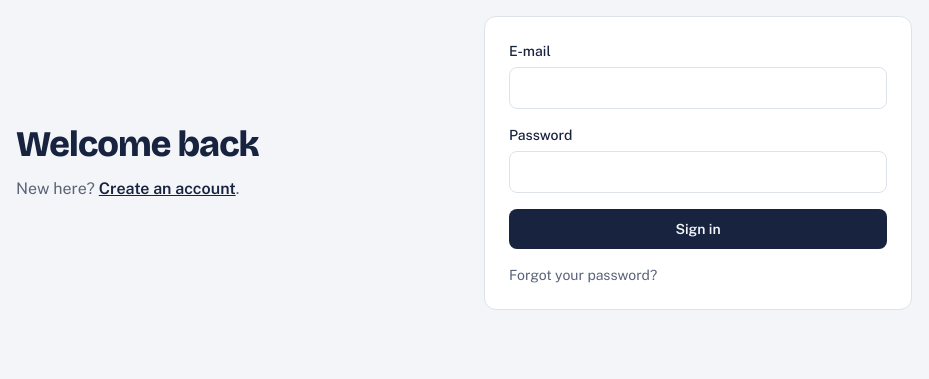
Test: sign in › shows the server error for wrong credentials
The image size is (929, 379).
Type "ada@example.com" into the field labelled "E-mail" at (698, 88), box 509,67 -> 887,109
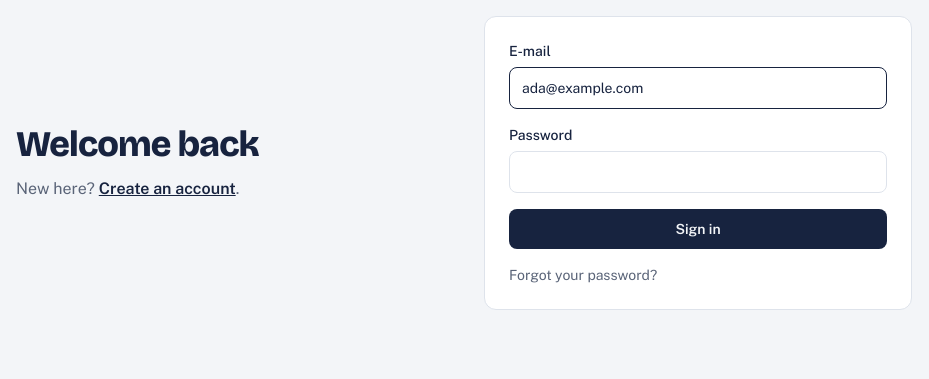
Type "wrong-password-1" into the password field labelled "Password" at (698, 172), box 509,151 -> 887,193
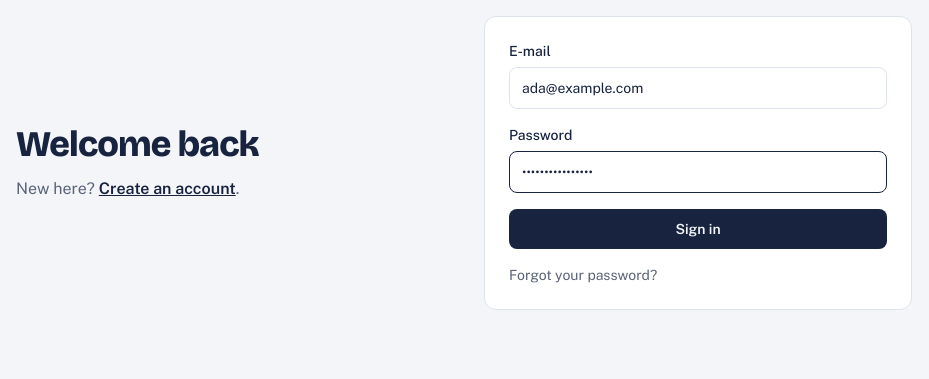
Click the button "Sign in" at (698, 229), box 509,209 -> 887,249
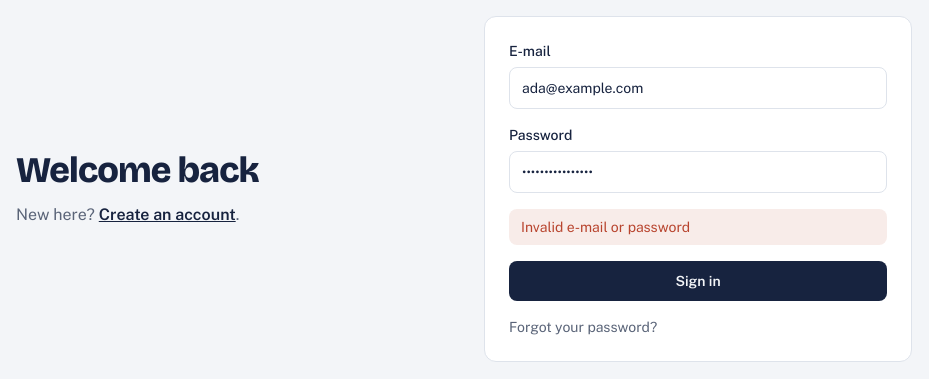
Expected: the message reads "Invalid e-mail or password", 521,219 -> 690,235
